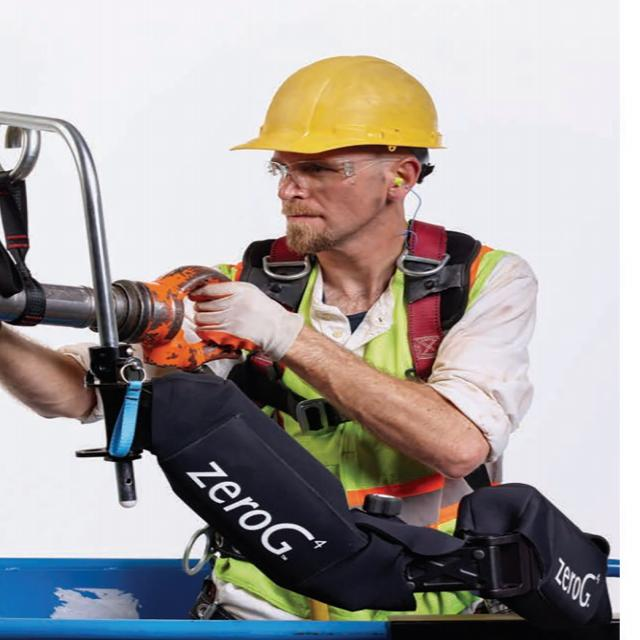Reflective-Jacket: (202, 220, 521, 601)
Safety-Helmet: (228, 52, 450, 166)
